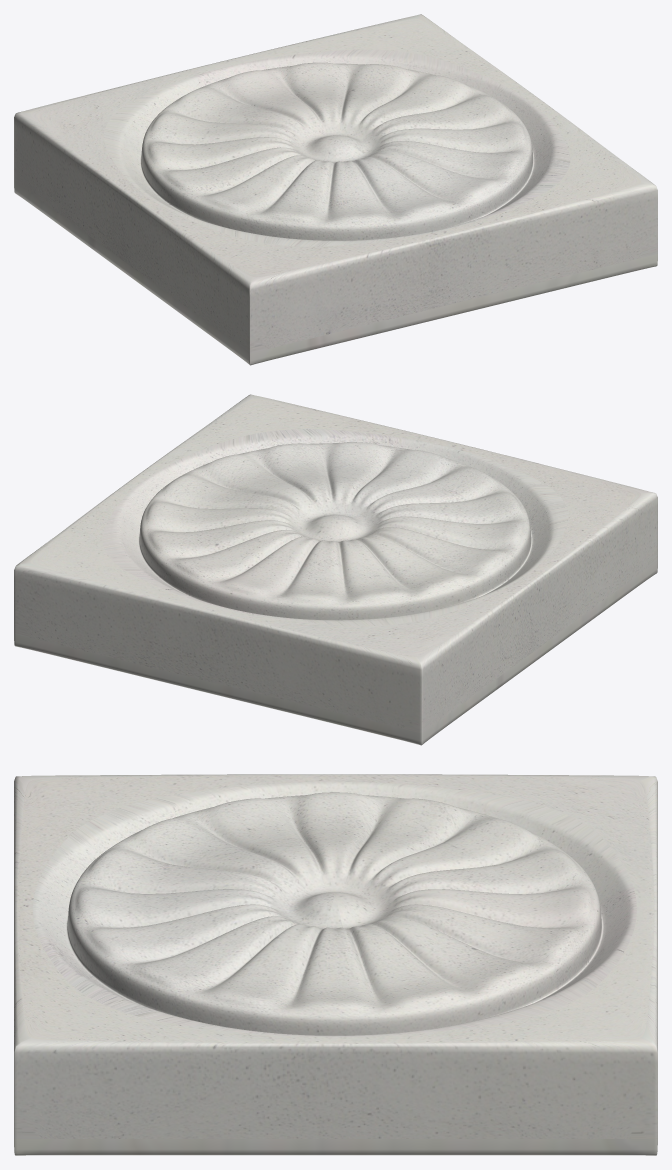
File: DaisyPin.fbx
The picture shows the model from 3 angles, top to bottom: view 1: azimuth 30°, elevation 25°; view 2: azimuth 150°, elevation 25°; view 3: azimuth 270°, elevation 25°; orthographic projection. The views are drawn at different scales.
Visible parts, largest first — view 1: _Daisy_base_square_block_v1_max2011_iteration_2:_Daisy_squar; view 2: _Daisy_base_square_block_v1_max2011_iteration_2:_Daisy_squar; view 3: _Daisy_base_square_block_v1_max2011_iteration_2:_Daisy_squar.
Boxes of the visible parts, x1=… form: _Daisy_base_square_block_v1_max2011_iteration_2:_Daisy_squar: x1=14, y1=14, x2=657, y2=365; _Daisy_base_square_block_v1_max2011_iteration_2:_Daisy_squar: x1=14, y1=394, x2=657, y2=745; _Daisy_base_square_block_v1_max2011_iteration_2:_Daisy_squar: x1=14, y1=774, x2=657, y2=1155.
Size of the model in its own units: 5.61 by 1.23 by 5.62.
